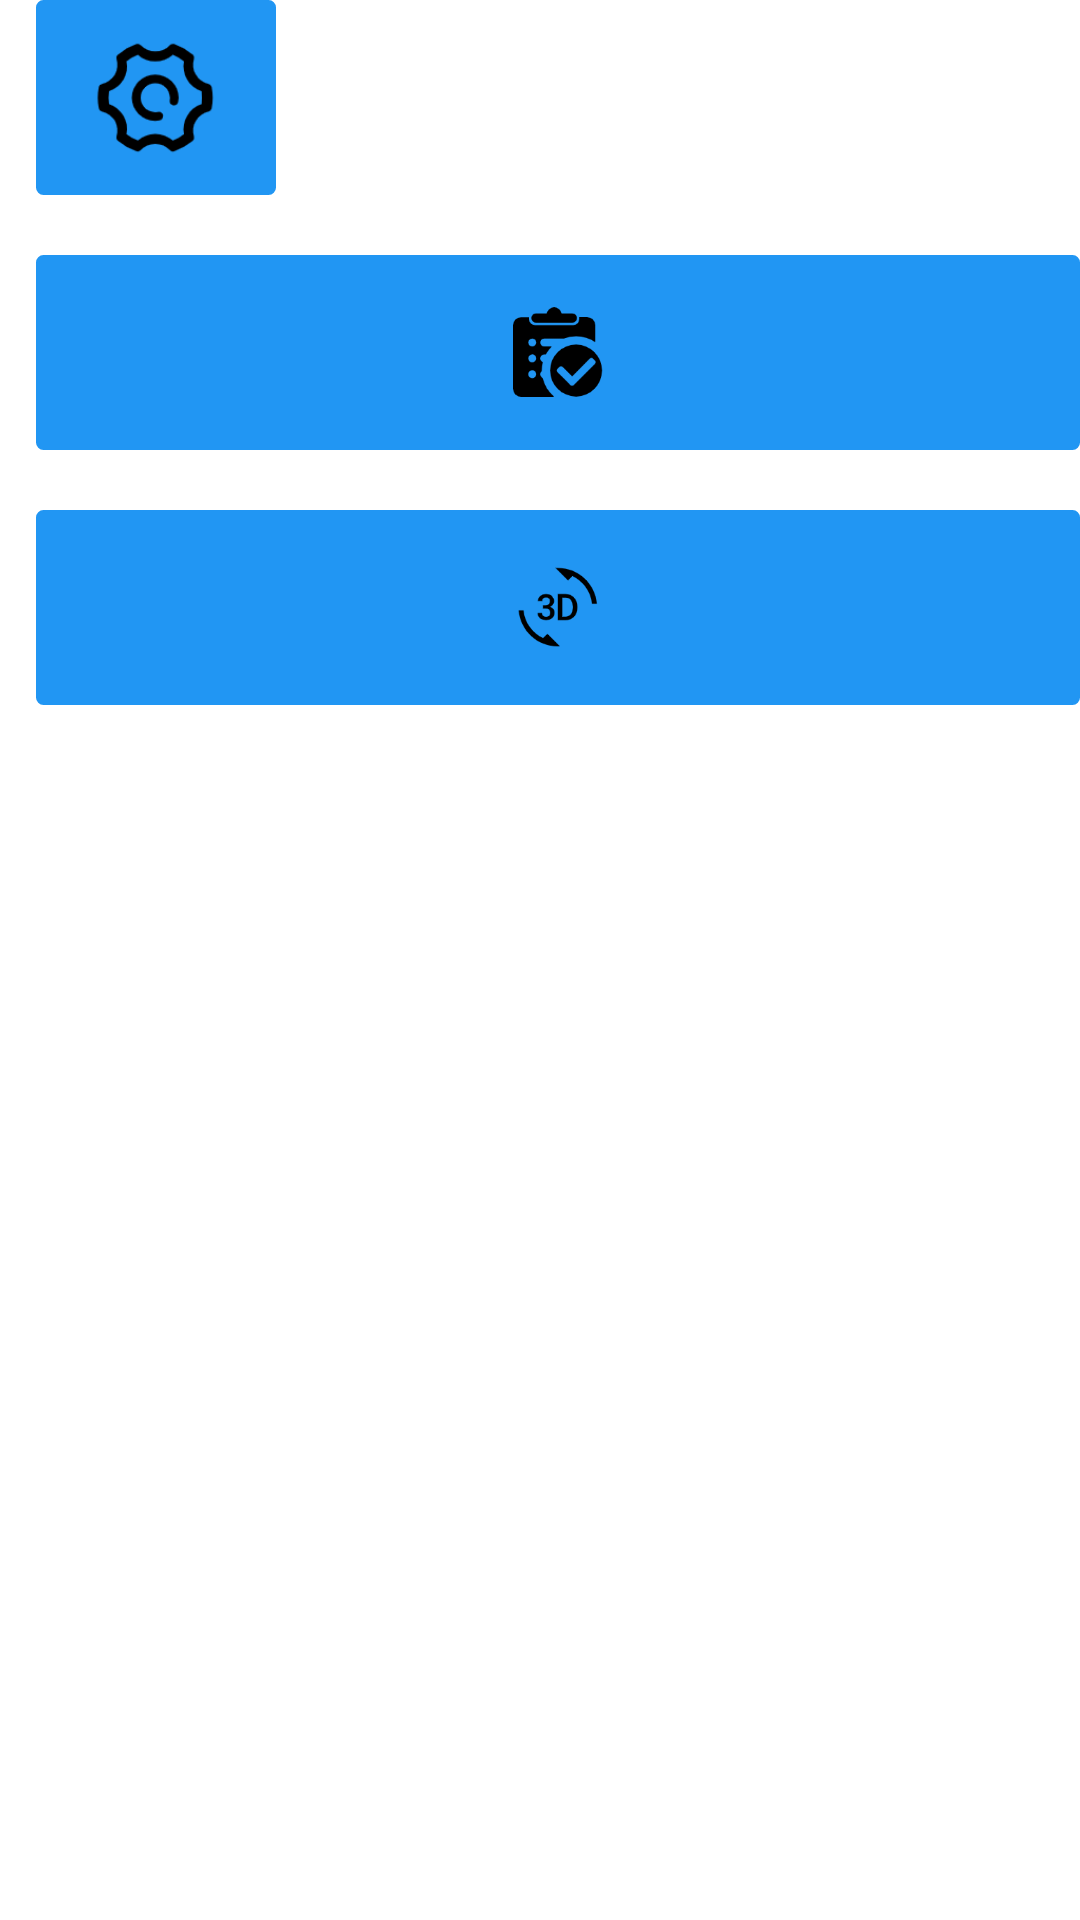

Where to tap for icons on this 1080*1920 app screen, as (x,y):
setting: (155,97)
status: (558,352)
